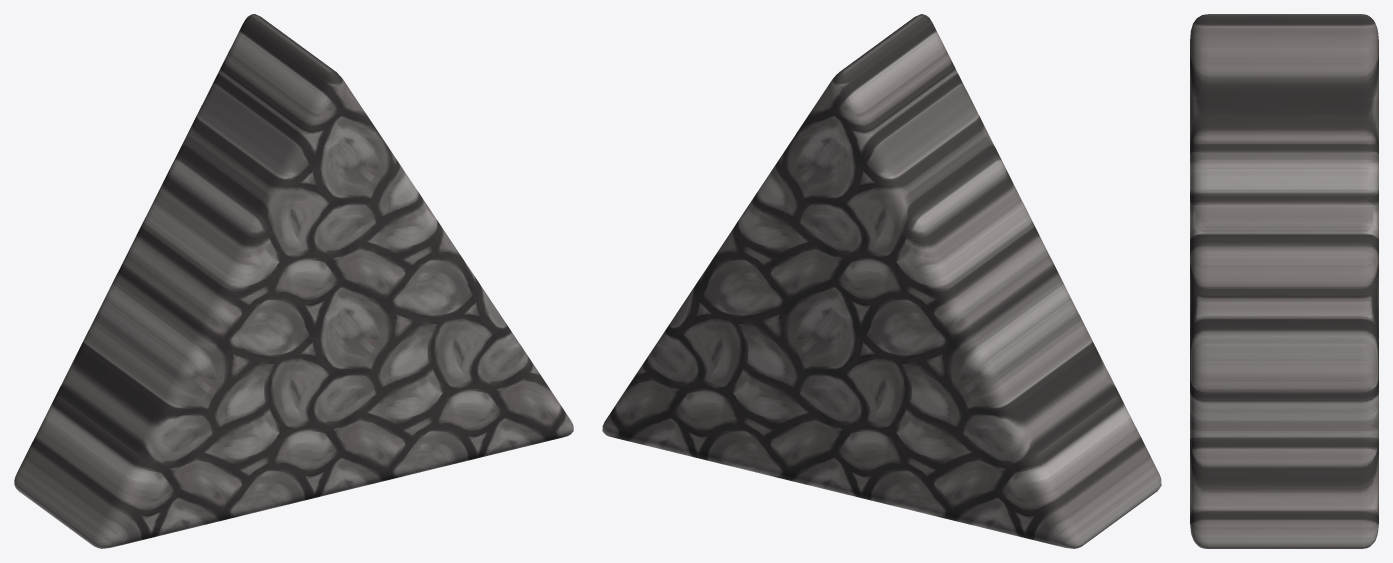
File: triangle_block.FBX
3 renders of one model, left to right at view 1: azimuth 30°, elevation 25°; view 2: azimuth 150°, elevation 25°; view 3: azimuth 270°, elevation 25°, orthographic.
Parts seen in each view (by area): view 1: Box001; view 2: Box001; view 3: Box001.
Part boxes in pixels (box(x1,y1,x2,y2)): Box001: box(14, 14, 573, 548); Box001: box(602, 14, 1161, 548); Box001: box(1190, 14, 1378, 548).
Size of the model in its own units: 2.93 by 2.46 by 1.
